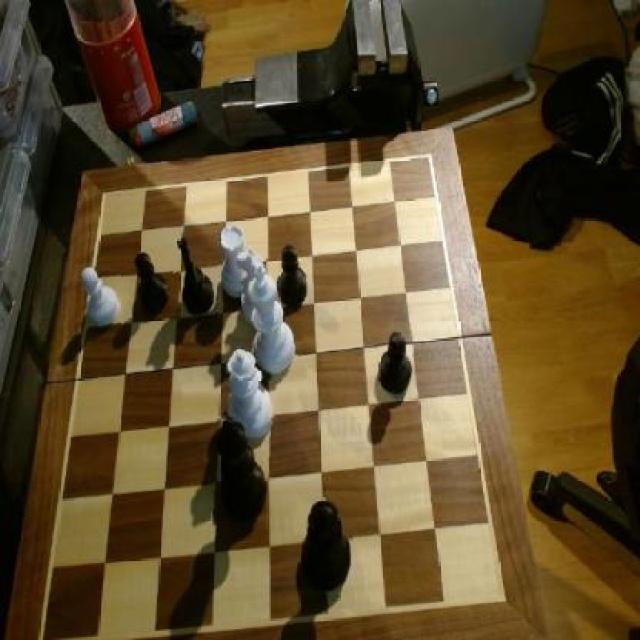black-bishop: (212, 418, 272, 530)
black-king: (174, 232, 217, 318)
black-knight: (377, 331, 414, 401), (132, 250, 171, 314), (275, 244, 311, 312)
black-pawn: (300, 498, 353, 597)
white-bishop: (241, 258, 297, 380)
white-knight: (80, 268, 122, 332)
white-pawn: (222, 345, 276, 442)
white-queen: (218, 223, 252, 301)
